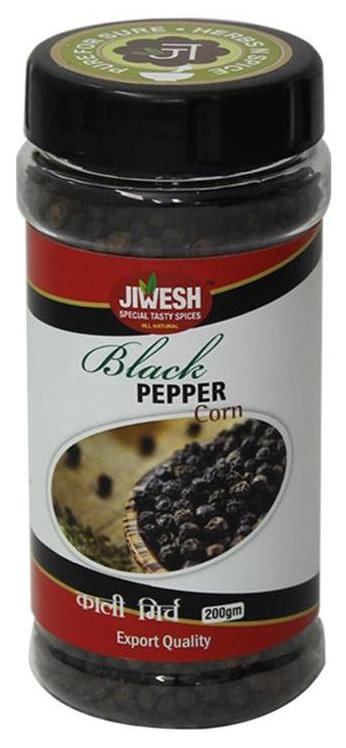JAR: (12, 13, 338, 731)
